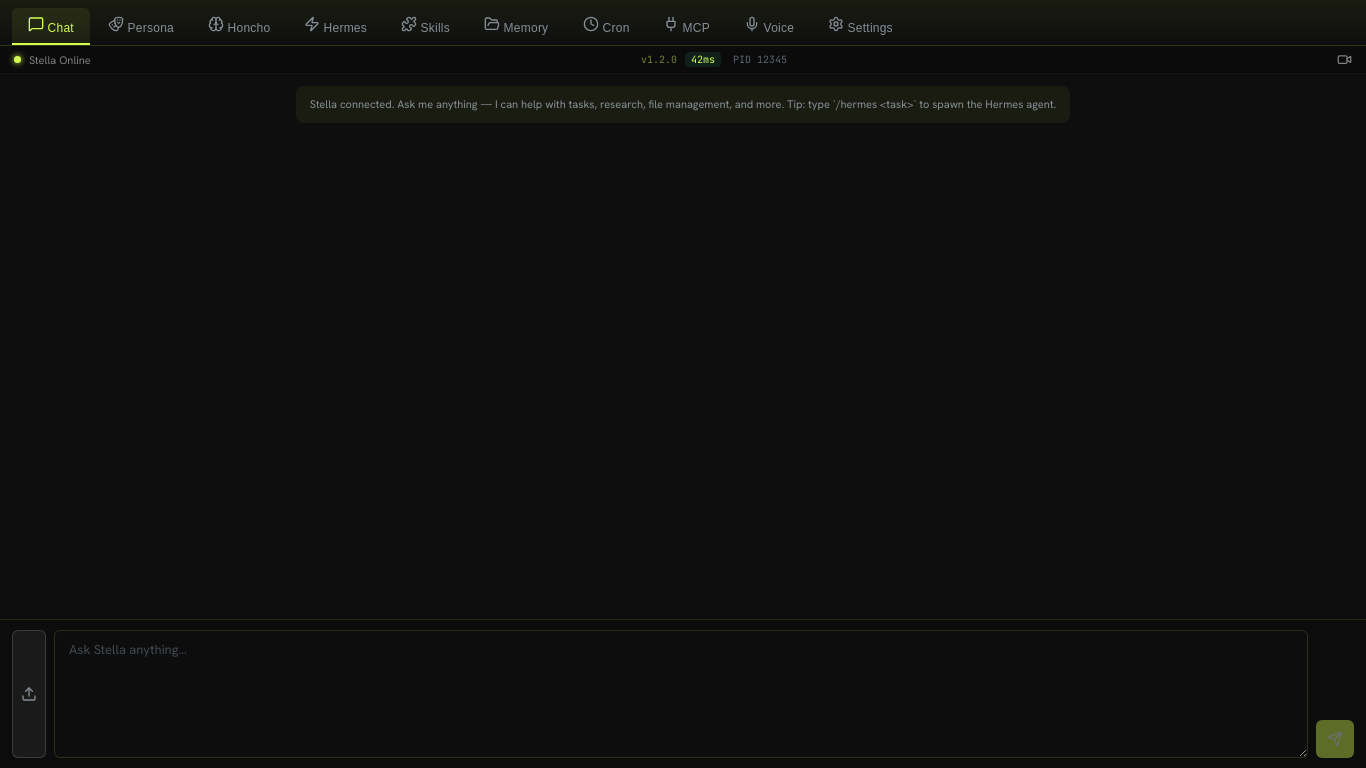
Test case: StellaAgent › sends a message and receives a response
The width and height of the screenshot is (1366, 768).
Expected: the text "Stella Online" is shown, [29, 52, 91, 66]
Type "Hello" into the text box with placeholder "Ask Stella anything…".
click(681, 694); type("Hello")  # box [54, 630, 1308, 758]
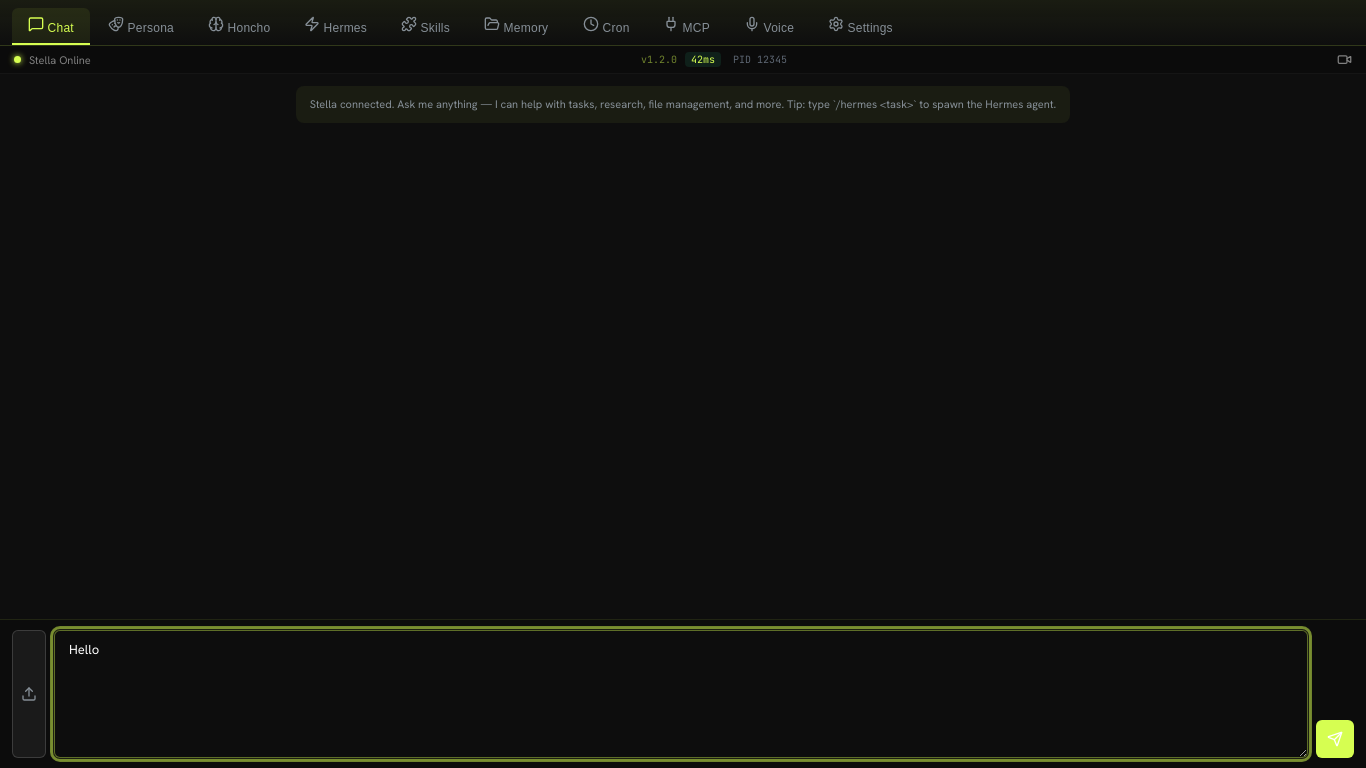
Click the button titled "Send".
click(1335, 739)  # box [1316, 720, 1354, 758]
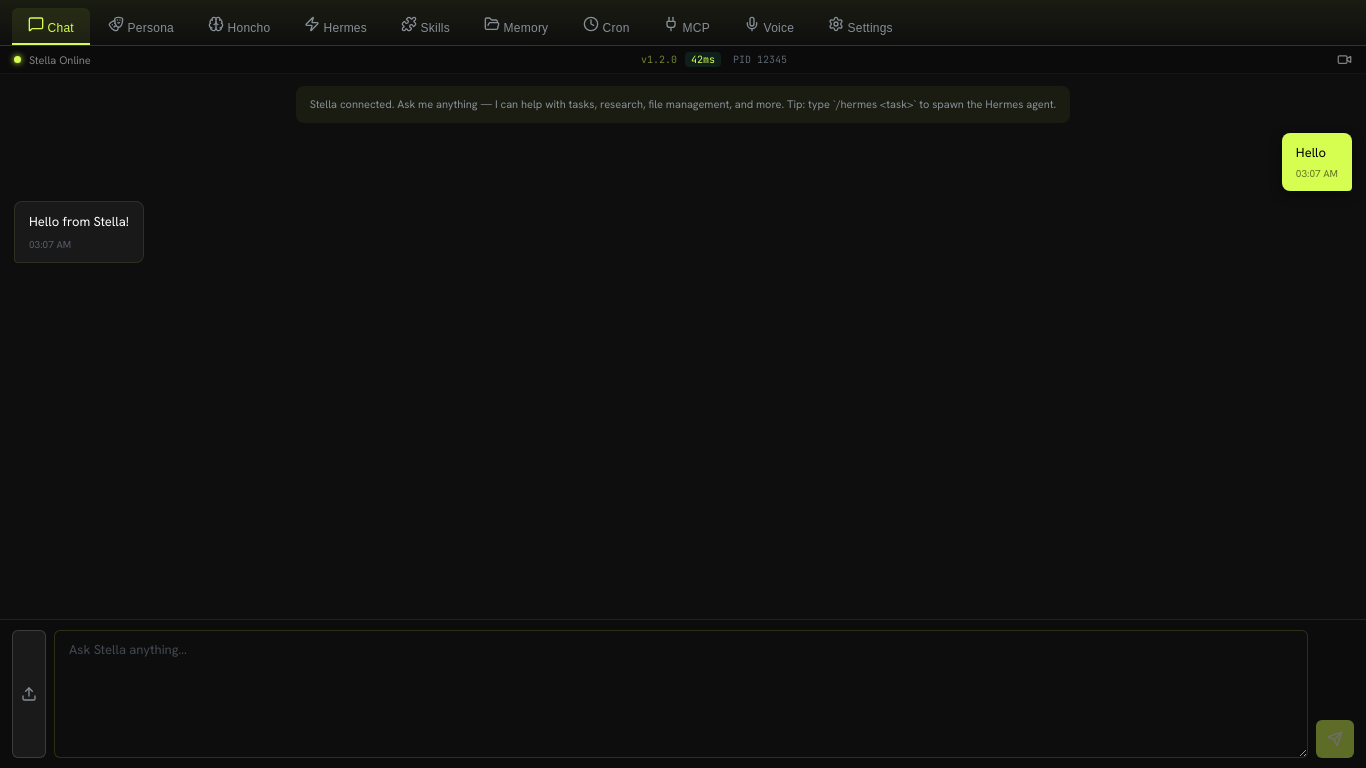
Expected: the text "Hello from Stella!" is shown, [29, 212, 129, 233]
